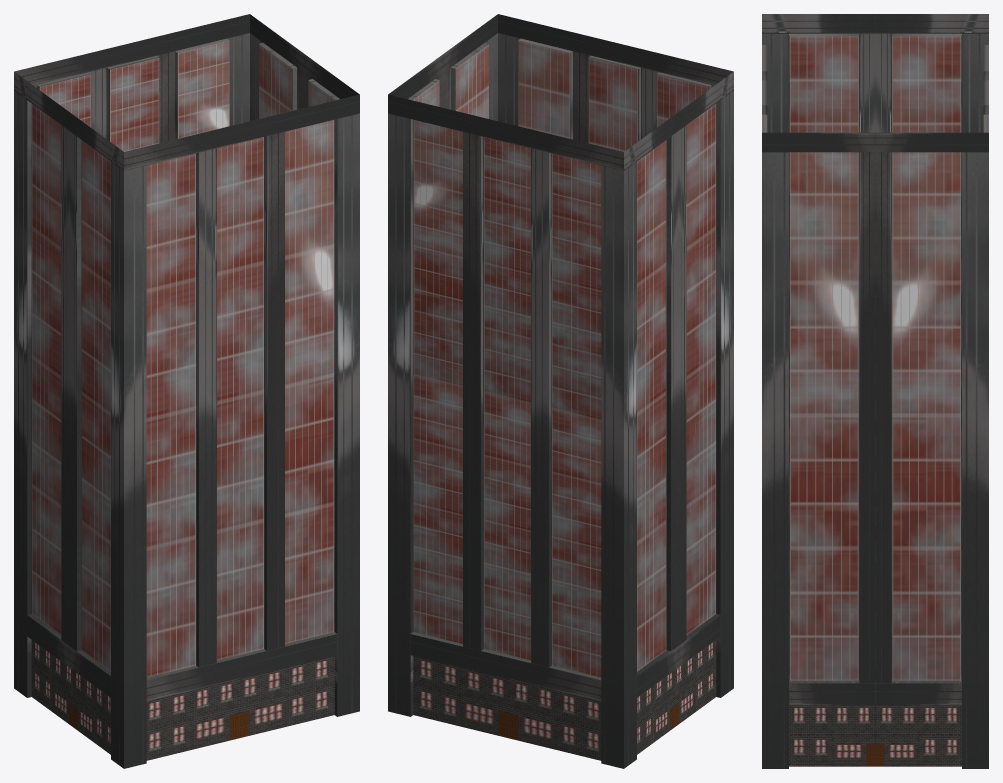
File: Building - 4.obj
3 renders of one model, left to right at view 1: azimuth 30°, elevation 25°; view 2: azimuth 150°, elevation 25°; view 3: azimuth 270°, elevation 25°, orthographic. The views are drawn at different scales.
Parts seen in each view (by area): view 1: Box01; view 2: Box01; view 3: Box01.
Boxes of the visible parts, left/top/right/bottom form: Box01: left=14, top=14, right=359, bottom=768; Box01: left=388, top=14, right=733, bottom=768; Box01: left=762, top=14, right=988, bottom=768.
Bounding box in the file's own units: 26 × 65 × 21.
